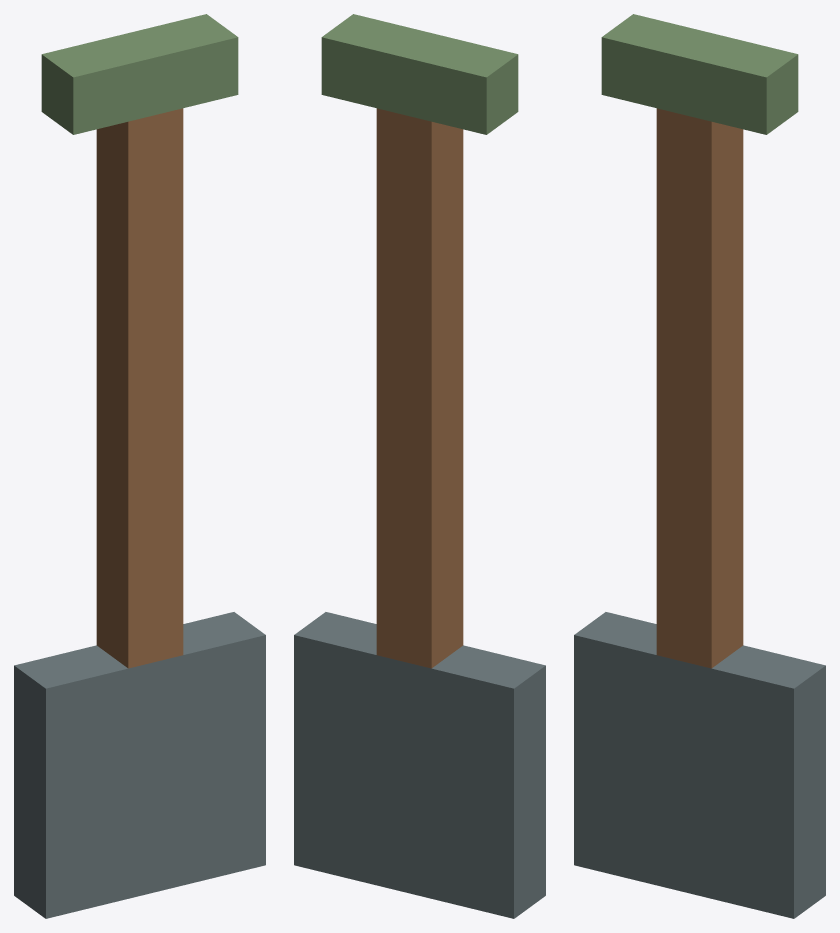
Rendered from gardening-07.glb.
3 renders of one model, left to right at view 1: azimuth 30°, elevation 25°; view 2: azimuth 150°, elevation 25°; view 3: azimuth 330°, elevation 25°, orthographic.
Parts seen in each view (by area): view 1: Garden trowel; view 2: Garden trowel; view 3: Garden trowel.
Boxes of the visible parts, x1,y1,x2,y2 form: Garden trowel: (14, 14, 265, 918); Garden trowel: (294, 14, 545, 918); Garden trowel: (574, 14, 825, 918).
Size of the model in its own units: 0.64 by 2.32 by 0.16.
